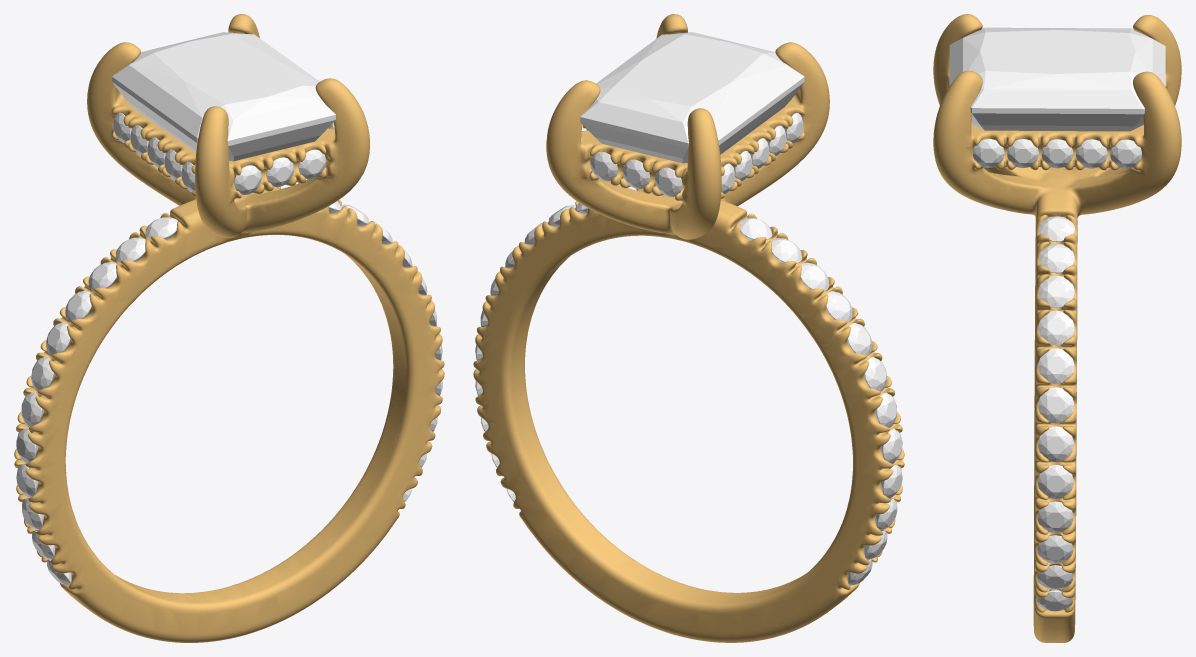
The model's file is royale_opt.glb.
3 views of the same model, side by side, from view 1: azimuth 30°, elevation 25°; view 2: azimuth 150°, elevation 25°; view 3: azimuth 270°, elevation 25° (orthographic).
Visible parts, largest first — view 1: subtool1, Emerald1, GemOnCrv037, GemOnCrv038, GemOnCrv015, GemOnCrv039, GemOnCrv016, GemOnCrv014; view 2: subtool1, Emerald1, GemOnCrv015, GemOnCrv036, GemOnCrv014, GemOnCrv035, GemOnCrv016, GemOnCrv034; view 3: subtool1, Emerald1, GemOnCrv005, GemOnCrv004, GemOnCrv006, GemOnCrv003, GemOnCrv007, GemOnCrv002, GemOnCrv008, GemOnCrv001, GemOnCrv009, GemOnCrv026 (+7 smaller).
Part boxes in pixels (x1,y1,x2,y2): subtool1: (14, 14, 444, 642); Emerald1: (112, 32, 335, 161); GemOnCrv037: (234, 165, 261, 194); GemOnCrv038: (266, 157, 294, 186); GemOnCrv015: (65, 290, 91, 321); GemOnCrv039: (298, 149, 326, 178); GemOnCrv016: (46, 322, 70, 355); GemOnCrv014: (88, 262, 116, 290); subtool1: (473, 14, 904, 642); Emerald1: (580, 32, 804, 163); GemOnCrv015: (826, 291, 852, 322); GemOnCrv036: (654, 167, 682, 196); GemOnCrv014: (800, 262, 828, 291); GemOnCrv035: (622, 159, 649, 188); GemOnCrv016: (847, 323, 872, 355); GemOnCrv034: (590, 151, 617, 181); subtool1: (933, 14, 1181, 642); Emerald1: (949, 27, 1165, 131); GemOnCrv005: (1038, 387, 1074, 423); GemOnCrv004: (1038, 348, 1074, 383); GemOnCrv006: (1038, 426, 1073, 461); GemOnCrv003: (1038, 310, 1074, 345); GemOnCrv007: (1037, 465, 1073, 498); GemOnCrv002: (1038, 275, 1074, 307); GemOnCrv008: (1037, 501, 1073, 533); GemOnCrv001: (1039, 243, 1074, 273); GemOnCrv009: (1037, 535, 1073, 563); GemOnCrv026: (1041, 139, 1073, 168).
Size of the model in its own units: 2.31 by 3.01 by 1.18.
